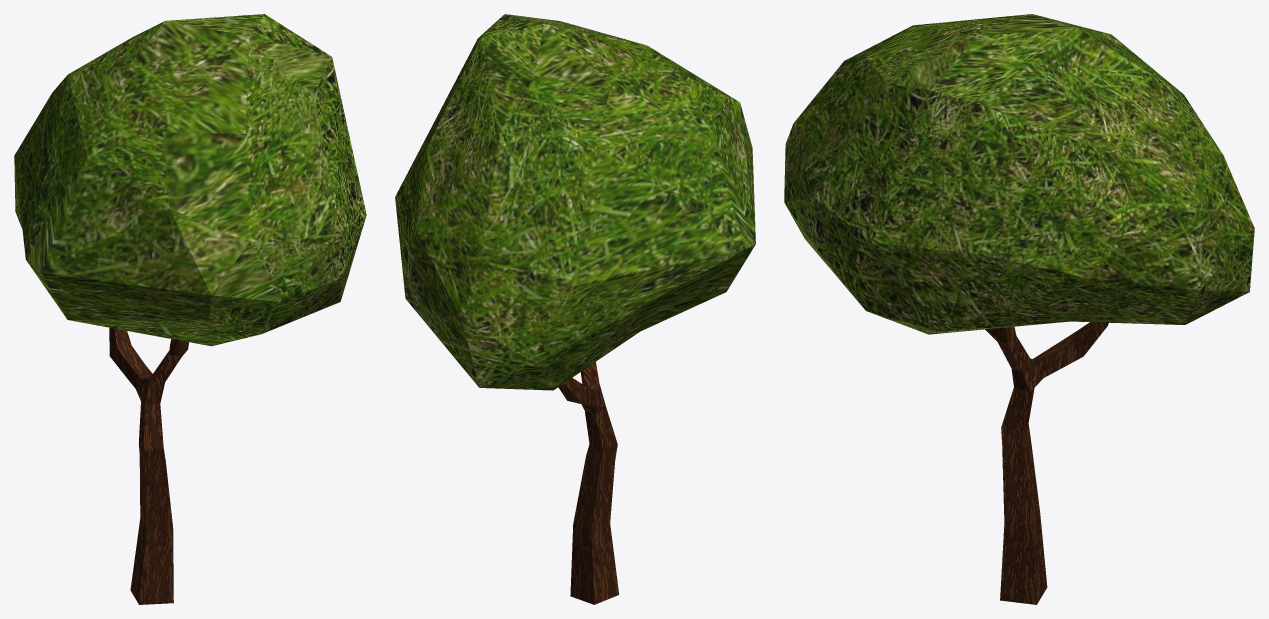
Rendered from Arvore.fbx.
3 renders of one model, left to right at view 1: azimuth 30°, elevation 25°; view 2: azimuth 150°, elevation 25°; view 3: azimuth 270°, elevation 25°, orthographic. The views are drawn at different scales.
Parts seen in each view (by area): view 1: arvore, Tronco; view 2: arvore, Tronco; view 3: arvore, Tronco.
Part boxes in pixels (x1,y1,x2,y2): arvore: [14, 14, 366, 346]; Tronco: [109, 327, 188, 604]; arvore: [395, 14, 755, 390]; Tronco: [558, 362, 619, 604]; arvore: [784, 14, 1254, 334]; Tronco: [985, 322, 1108, 604].
Size of the model in its own units: 198 by 345 by 246.
